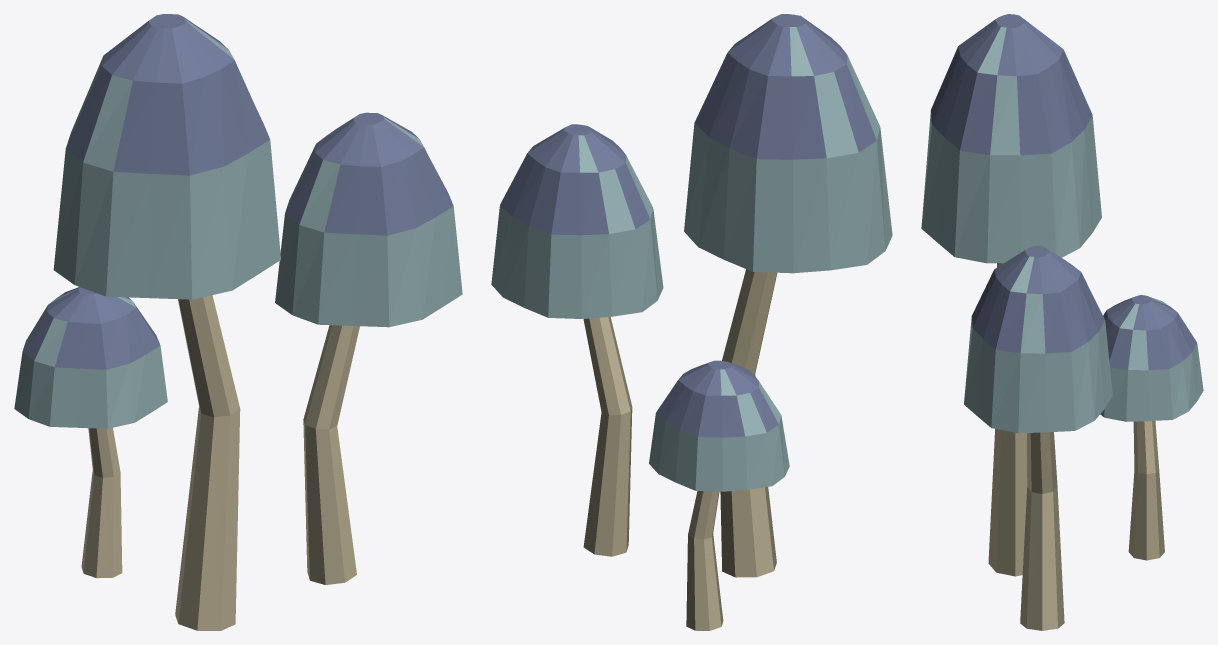
File: AE_Mushroom_IndigoLantern.fbx
3 renders of one model, left to right at view 1: azimuth 30°, elevation 25°; view 2: azimuth 150°, elevation 25°; view 3: azimuth 270°, elevation 25°, orthographic. The views are drawn at different scales.
Parts seen in each view (by area): view 1: AE_Mushroom_IndigoLantern; view 2: AE_Mushroom_IndigoLantern; view 3: AE_Mushroom_IndigoLantern.
Part boxes in pixels (<box>): AE_Mushroom_IndigoLantern: <box>14,14,462,630</box>; AE_Mushroom_IndigoLantern: <box>491,14,892,630</box>; AE_Mushroom_IndigoLantern: <box>921,14,1203,630</box>.
Bounding box in the file's own units: 1.17 × 1.73 × 0.8379.
